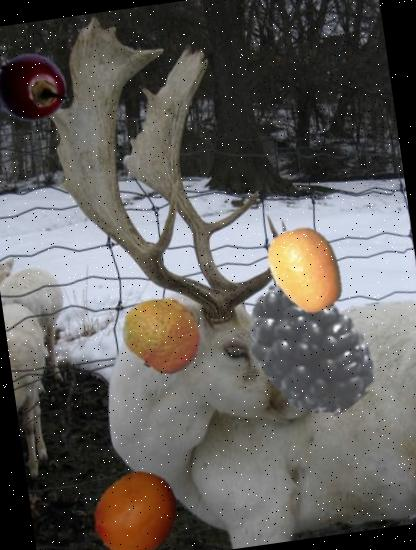Apricot: (85, 463, 188, 550)
Kumquats: (257, 221, 356, 320)
Mandarine: (116, 288, 210, 382)
Mulberry: (226, 265, 390, 430)
Tamarillo: (0, 48, 72, 129)
